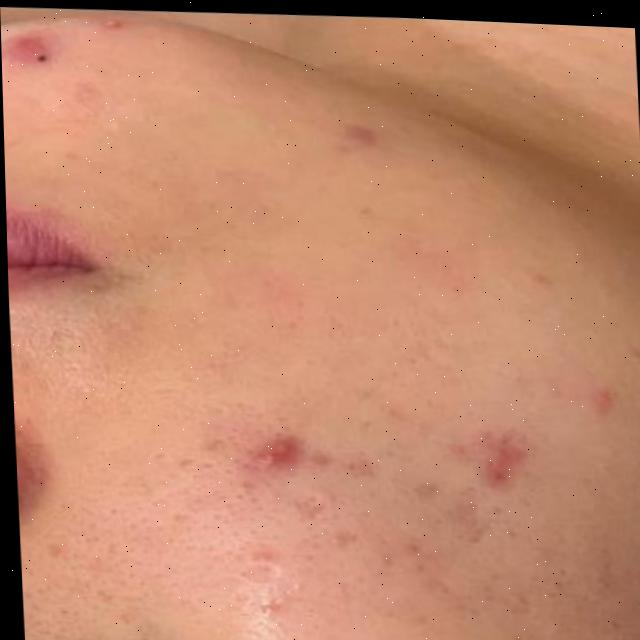Acne: (241, 427, 284, 472), (18, 24, 54, 71), (486, 440, 518, 481)
